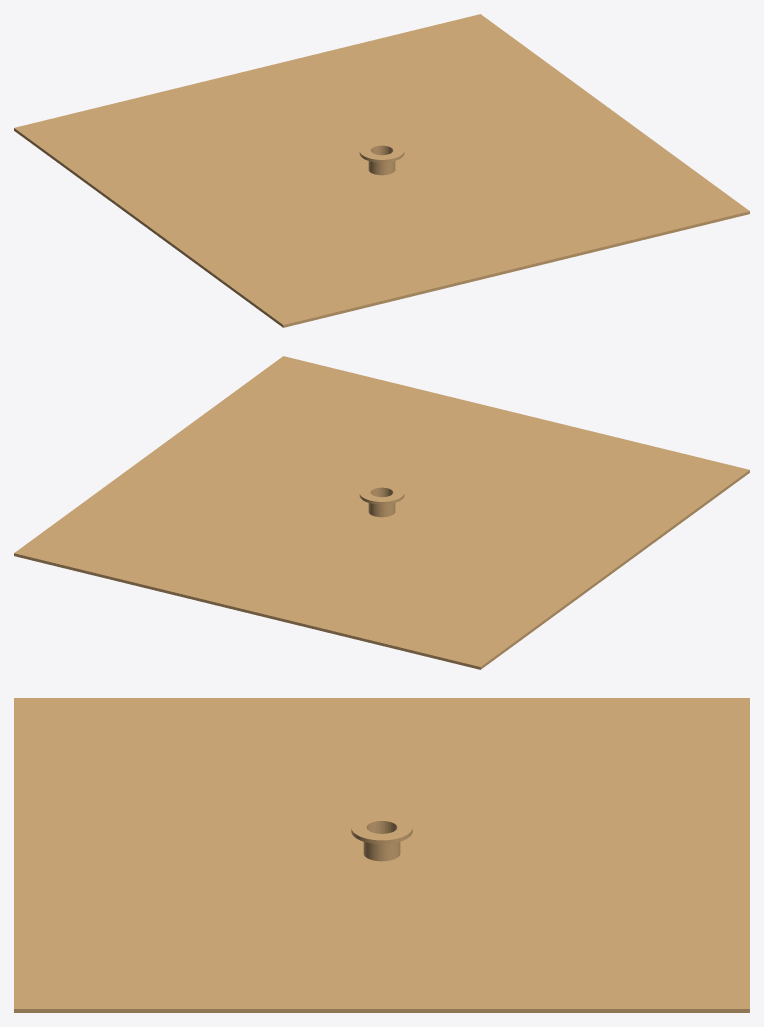
Rendered from board.glb.
3 views of the same model, one above another, from view 1: azimuth 30°, elevation 25°; view 2: azimuth 150°, elevation 25°; view 3: azimuth 270°, elevation 25° (orthographic). The views are drawn at different scales.
Visible parts, largest first — view 1: Unified_Net_1_Island_0 (×2), Bare_Via_Tube_1; view 2: Unified_Net_1_Island_0 (×2), Bare_Via_Tube_1; view 3: Unified_Net_1_Island_0 (×2), Bare_Via_Tube_1.
Part boxes in pixels (bbox=[...]): Unified_Net_1_Island_0 (×2): bbox=[14, 14, 749, 327]; Bare_Via_Tube_1: bbox=[359, 141, 404, 175]; Unified_Net_1_Island_0 (×2): bbox=[14, 356, 749, 669]; Bare_Via_Tube_1: bbox=[359, 483, 404, 517]; Unified_Net_1_Island_0 (×2): bbox=[14, 698, 749, 1012]; Bare_Via_Tube_1: bbox=[351, 814, 412, 861].
Bounding box in the file's own units: 0.006 × 0.00137 × 0.006.
